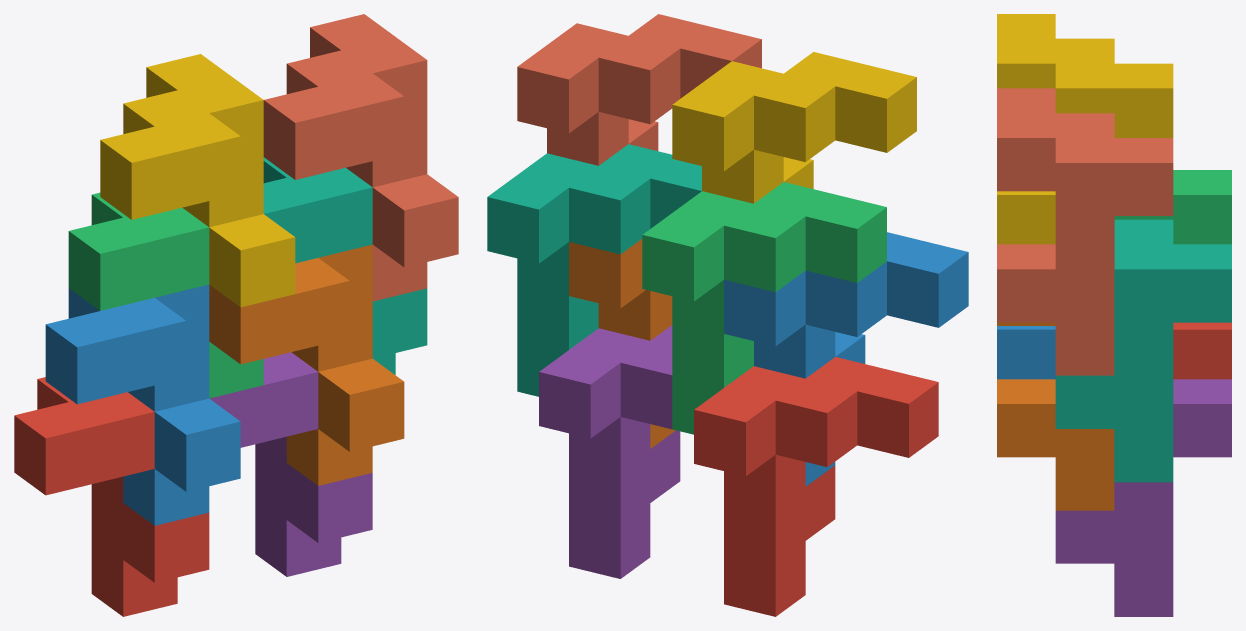
File: tiling.obj
The picture shows the model from 3 angles, left to right: view 1: azimuth 30°, elevation 25°; view 2: azimuth 150°, elevation 25°; view 3: azimuth 270°, elevation 25°; orthographic projection. The views are drawn at different scales.
Parts seen in each view (by area): view 1: copy_1_domain_8, copy_1_domain_4, copy_1_domain_2, copy_1_domain_6, copy_1_domain_1, copy_1_domain_5, copy_1_domain_3, copy_1_domain_7; view 2: copy_1_domain_1, copy_1_domain_3, copy_1_domain_5, copy_1_domain_4, copy_1_domain_7, copy_1_domain_8, copy_1_domain_2, copy_1_domain_6; view 3: copy_1_domain_8, copy_1_domain_7, copy_1_domain_4, copy_1_domain_5, copy_1_domain_6, copy_1_domain_3, copy_1_domain_1, copy_1_domain_2.
Part boxes in pixels (x1,y1,x2,y2): copy_1_domain_8: [263, 14, 458, 301]; copy_1_domain_4: [100, 54, 295, 307]; copy_1_domain_2: [45, 284, 240, 525]; copy_1_domain_6: [209, 244, 404, 485]; copy_1_domain_1: [14, 377, 209, 616]; copy_1_domain_5: [209, 352, 372, 576]; copy_1_domain_3: [68, 192, 263, 398]; copy_1_domain_7: [263, 157, 427, 374]; copy_1_domain_1: [694, 357, 938, 616]; copy_1_domain_3: [642, 182, 886, 434]; copy_1_domain_5: [539, 325, 680, 578]; copy_1_domain_4: [672, 52, 916, 203]; copy_1_domain_7: [487, 144, 701, 396]; copy_1_domain_8: [517, 14, 761, 165]; copy_1_domain_2: [724, 232, 968, 486]; copy_1_domain_6: [569, 239, 675, 448]; copy_1_domain_8: [997, 88, 1173, 375]; copy_1_domain_7: [1055, 219, 1231, 482]; copy_1_domain_4: [997, 14, 1173, 244]; copy_1_domain_5: [1055, 379, 1231, 616]; copy_1_domain_6: [997, 322, 1114, 510]; copy_1_domain_3: [1114, 170, 1231, 244]; copy_1_domain_1: [1173, 322, 1231, 379]; copy_1_domain_2: [997, 326, 1055, 379].
Bounding box in the file's own units: 7 × 9 × 4.
